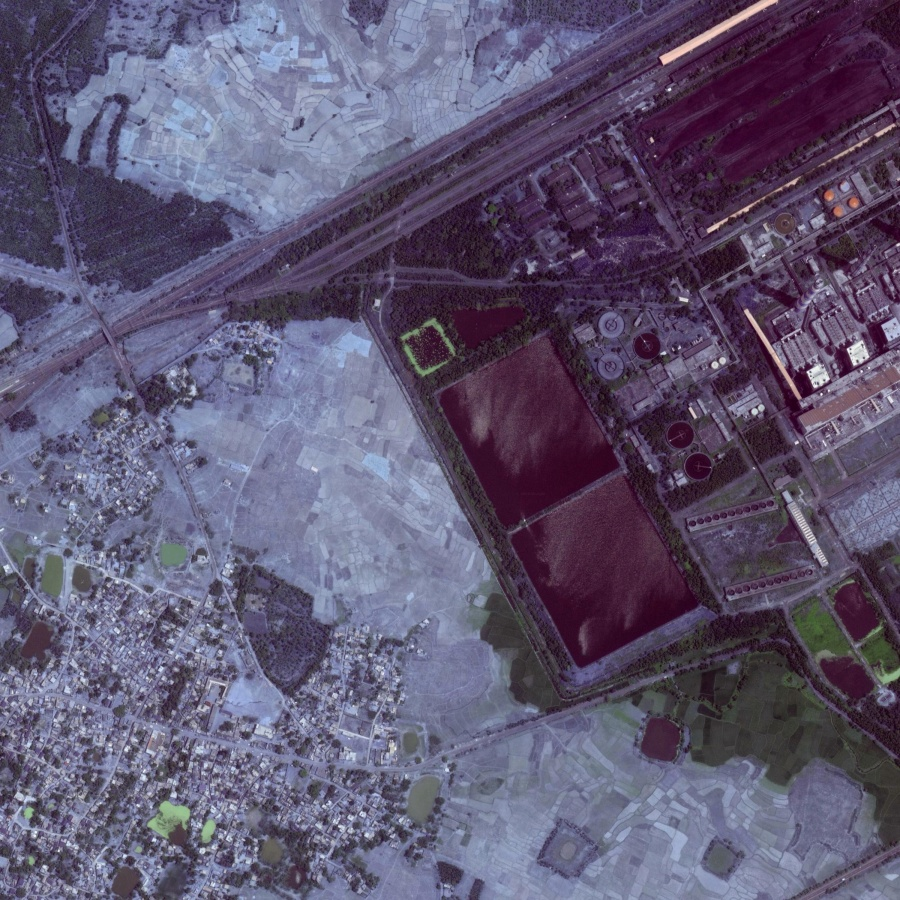PowerPlant: (410, 309, 772, 712)
